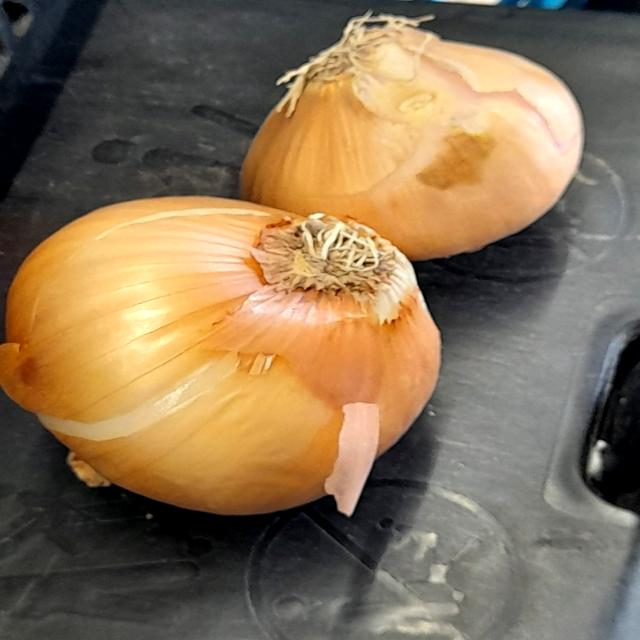onion: (0, 182, 459, 528), (235, 11, 597, 257)
